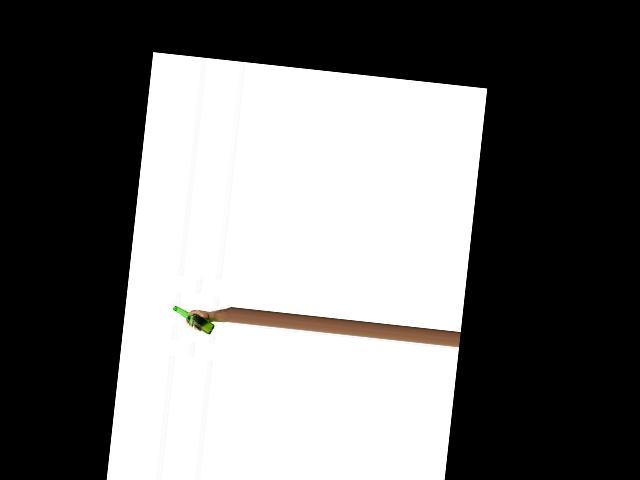beer: (170, 305, 216, 334)
